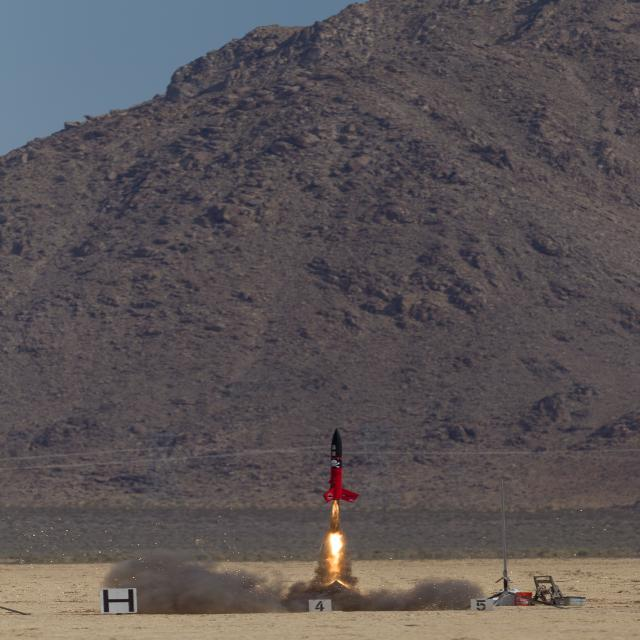Rocket: (322, 426, 360, 504)
